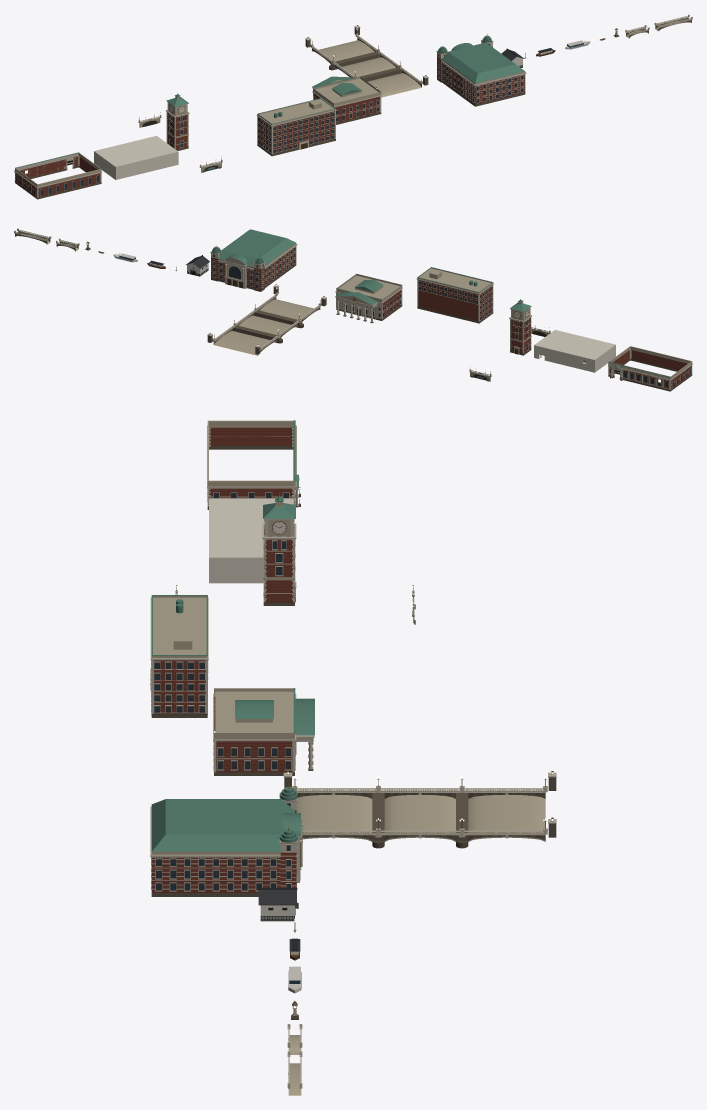
File: exchange.glb
3 renders of one model, top to bottom at view 1: azimuth 30°, elevation 25°; view 2: azimuth 150°, elevation 25°; view 3: azimuth 270°, elevation 25°, orthographic. The views are drawn at different scales.
Parts seen in each view (by area): view 1: exchange_pubhall_body, exchange_annex_body, exchange_gbridge_body, exchange_inside_body, exchange_hall_body, exchange_bank_body, exchange_tower_body, exchange_bridge_body; view 2: exchange_pubhall_body, exchange_gbridge_body, exchange_annex_body, exchange_bank_body, exchange_hall_body, exchange_inside_body, exchange_tower_body, exchange_kura_body, exchange_bridge_body; view 3: exchange_pubhall_body, exchange_gbridge_body, exchange_bank_body, exchange_annex_body, exchange_inside_body, exchange_hall_body, exchange_tower_body, exchange_kura_body.
Boxes of the visible parts, box(x1,y1,x2,y2) form: exchange_pubhall_body: box(436, 34, 526, 106); exchange_annex_body: box(256, 98, 336, 156); exchange_gbridge_body: box(305, 25, 428, 97); exchange_inside_body: box(94, 135, 178, 179); exchange_hall_body: box(14, 152, 102, 199); exchange_bank_body: box(312, 76, 381, 124); exchange_tower_body: box(165, 93, 189, 150); exchange_bridge_body: box(138, 112, 222, 172); exchange_pubhall_body: box(210, 229, 297, 291); exchange_gbridge_body: box(207, 284, 326, 355); exchange_annex_body: box(416, 267, 493, 323); exchange_bank_body: box(335, 273, 402, 323); exchange_hall_body: box(608, 346, 692, 391); exchange_inside_body: box(534, 330, 615, 372); exchange_tower_body: box(509, 299, 532, 355); exchange_kura_body: box(186, 255, 209, 276); exchange_bridge_body: box(469, 325, 550, 381); exchange_pubhall_body: box(150, 783, 302, 896); exchange_gbridge_body: box(283, 771, 556, 848); exchange_bank_body: box(213, 688, 314, 775); exchange_annex_body: box(150, 595, 208, 717); exchange_inside_body: box(209, 498, 293, 583); exchange_hall_body: box(207, 420, 300, 509); exchange_tower_body: box(262, 492, 296, 605); exchange_kura_body: box(258, 888, 298, 921).
Bounding box in the file's own units: 486 × 41.7 × 131.
